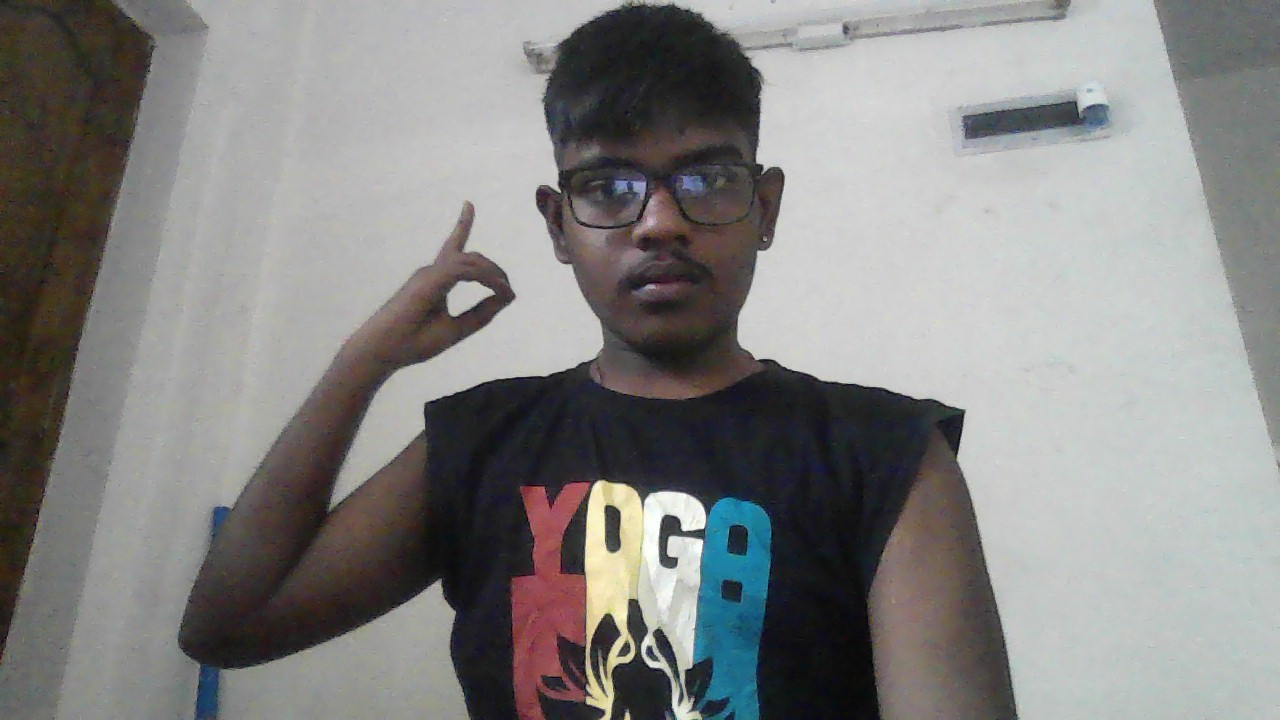D: (386, 202, 515, 378)
